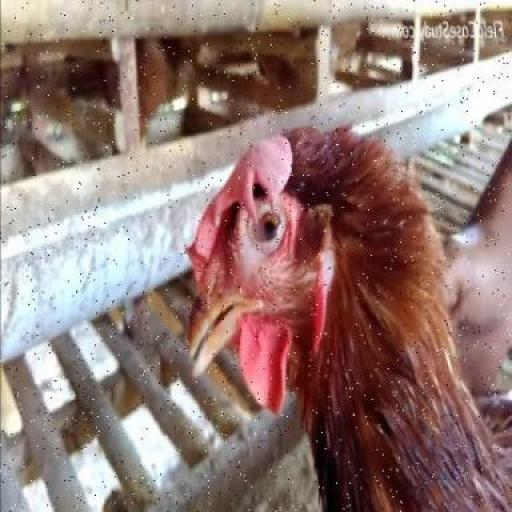disease: (213, 173, 306, 320)
